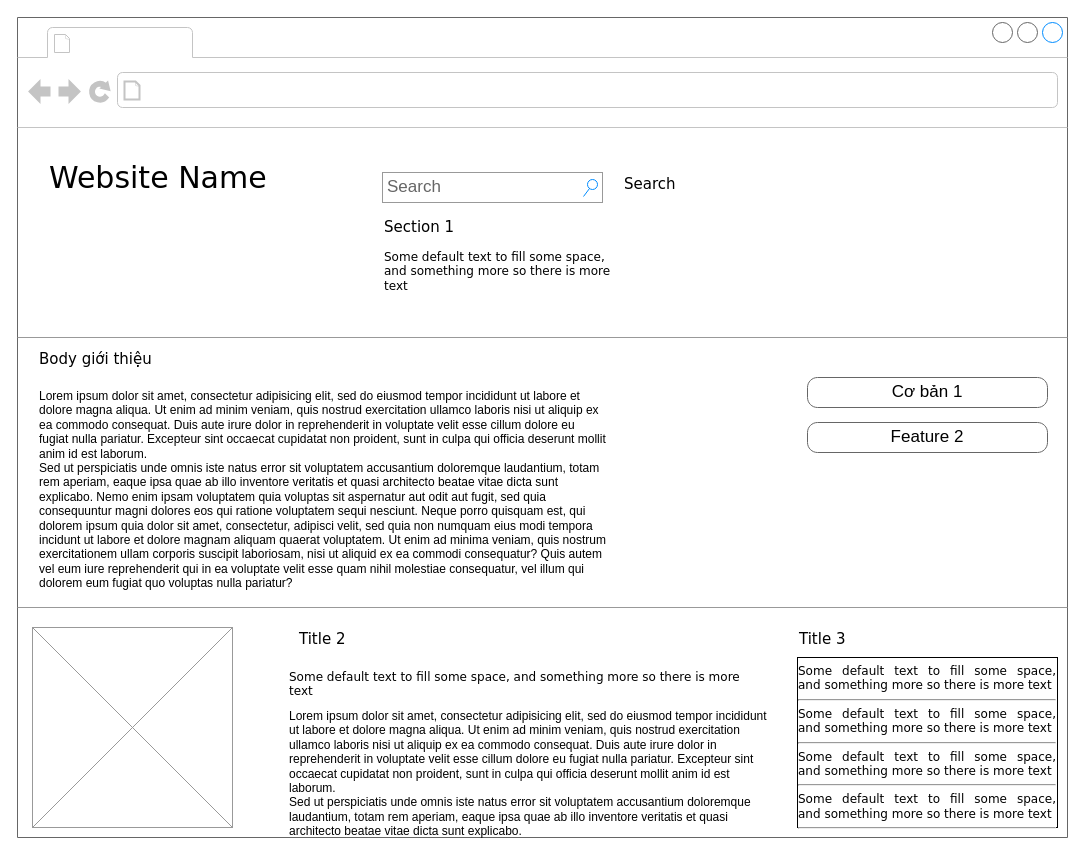
This 1085x857 diagram has some shape labels left out. Each missing label, with the centre of its shape:
https://www.default.com: [272,90]
Page 1: [132,42]
